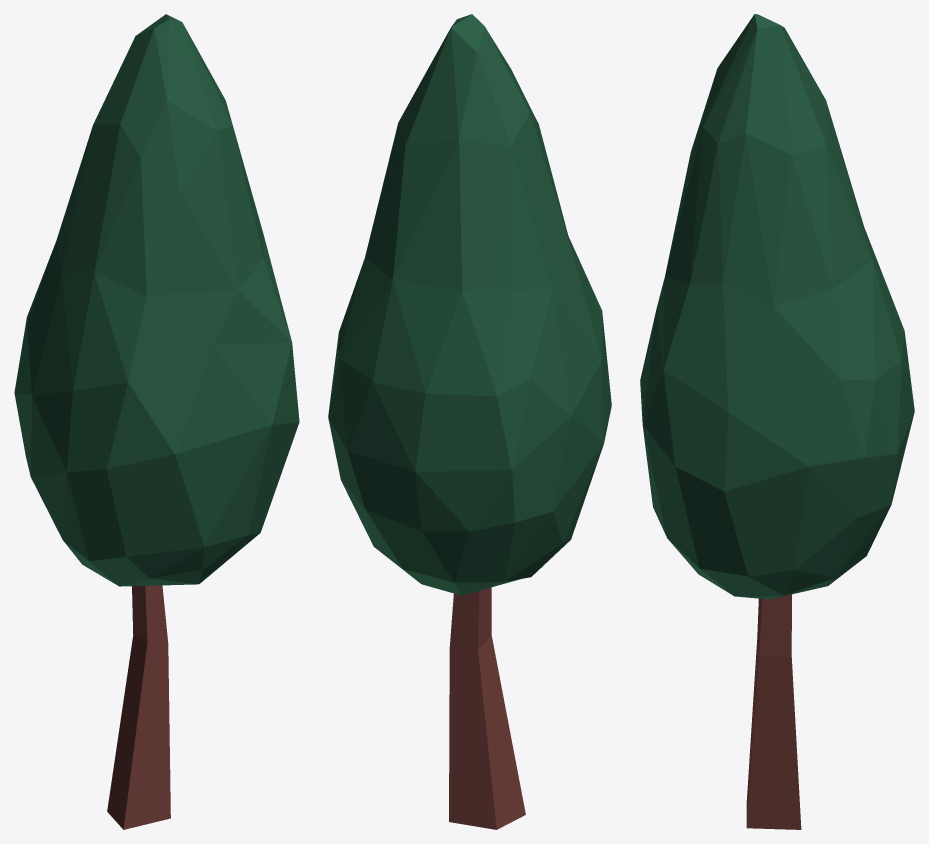
Rendered from arrbol.fbx.
The picture shows the model from 3 angles, left to right: view 1: azimuth 30°, elevation 25°; view 2: azimuth 150°, elevation 25°; view 3: azimuth 270°, elevation 25°; orthographic projection. The views are drawn at different scales.
Visible parts, largest first — view 1: Tree_small_regular; view 2: Tree_small_regular; view 3: Tree_small_regular.
Boxes of the visible parts, x1,y1,x2,y2 form: Tree_small_regular: (14,14,299,829); Tree_small_regular: (328,14,611,829); Tree_small_regular: (640,14,914,829).
Bounding box in the file's own units: 230 × 770 × 235.
1 material, 1 textured.
